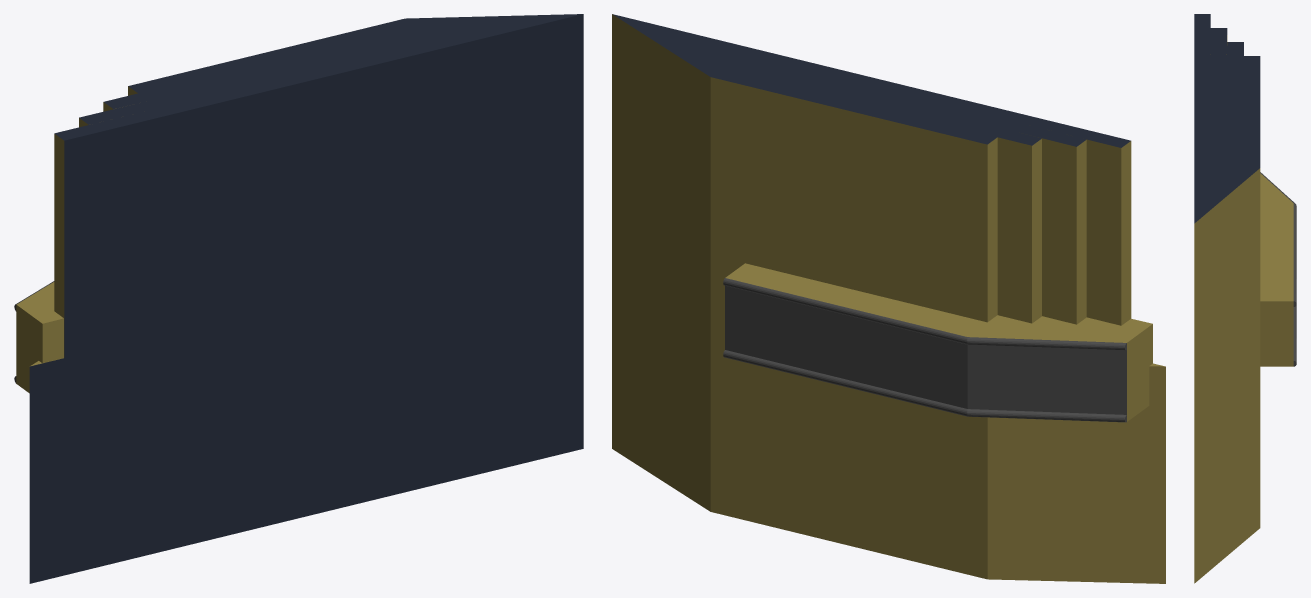
File: Box Special 2.fbx
The picture shows the model from 3 angles, left to right: view 1: azimuth 30°, elevation 25°; view 2: azimuth 150°, elevation 25°; view 3: azimuth 270°, elevation 25°; orthographic projection. The views are drawn at different scales.
Parts seen in each view (by area): view 1: Box Special 2; view 2: Box Special 2; view 3: Box Special 2.
Part boxes in pixels (x1,y1,x2,y2): Box Special 2: [14, 14, 583, 583]; Box Special 2: [612, 14, 1165, 583]; Box Special 2: [1194, 14, 1296, 583].
Bounding box in the file's own units: 1600 × 1200 × 310.
